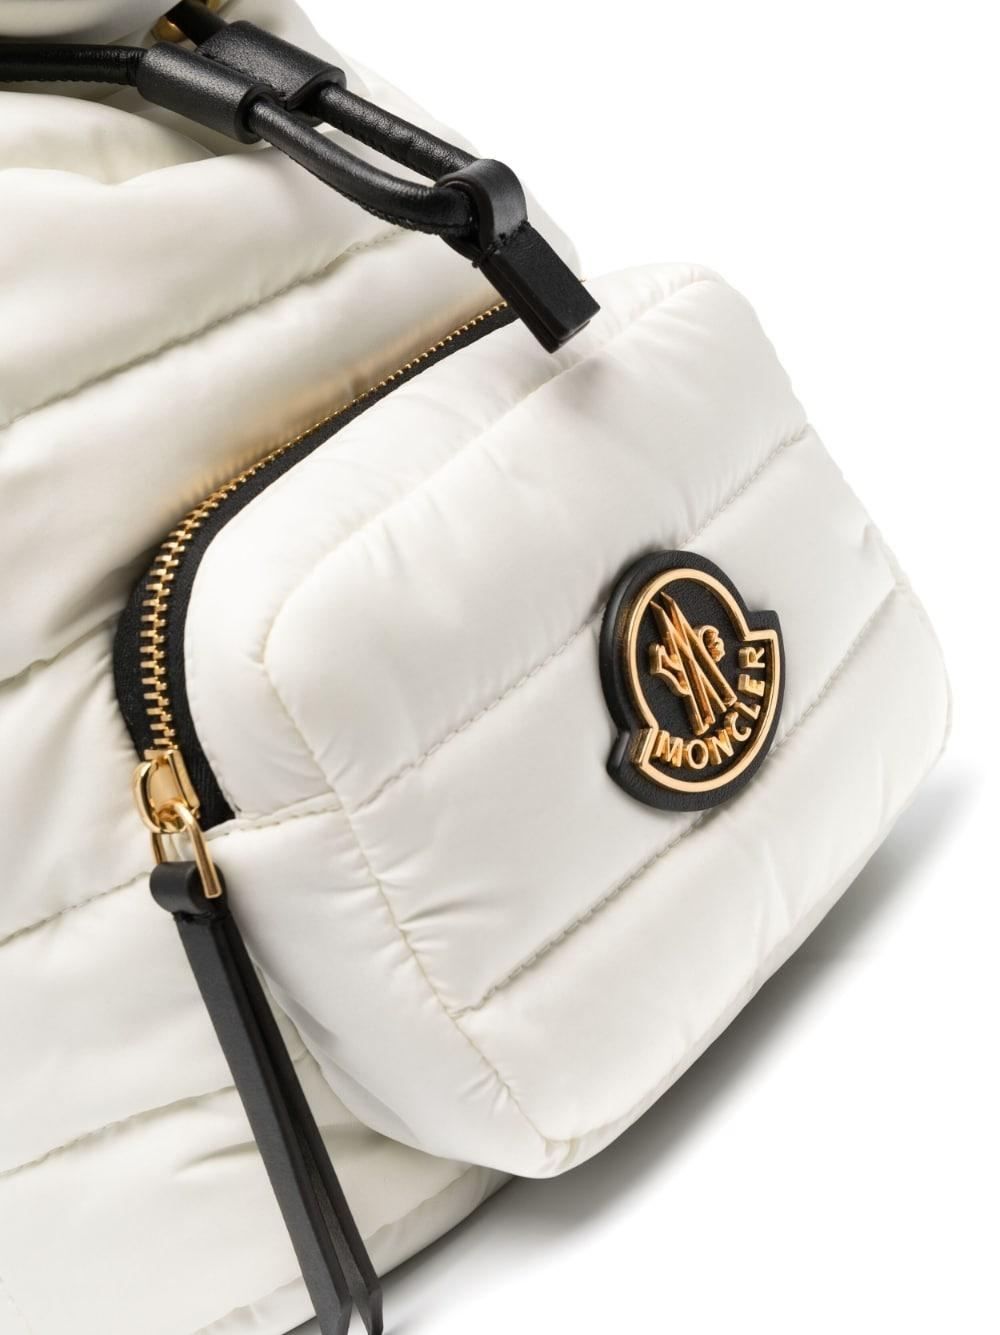MONCLER: (598, 547, 789, 812)
